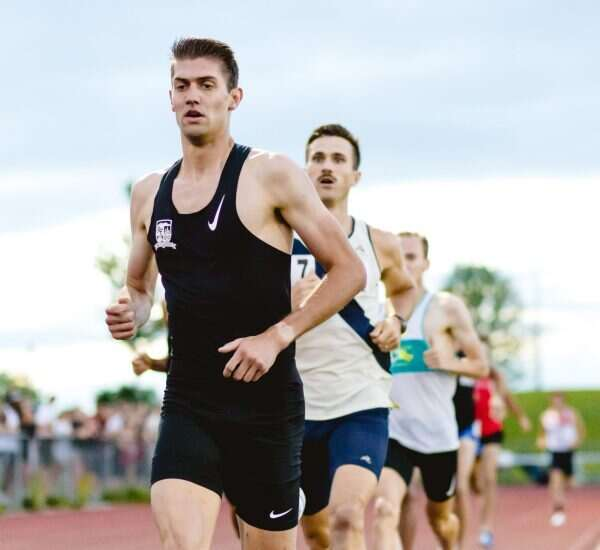runner: (101, 36, 369, 550), (291, 124, 418, 550), (372, 230, 490, 550)
